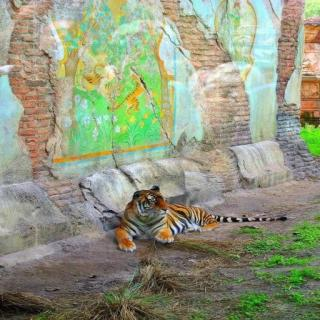Tiger: (104, 165, 238, 268)
